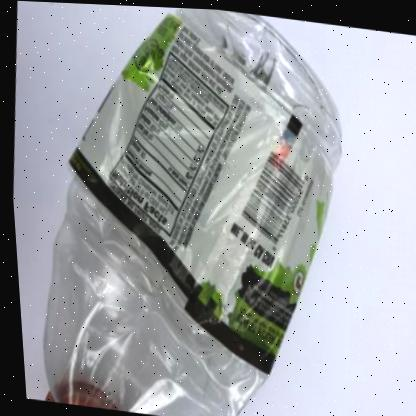Plastic: (38, 6, 340, 416)
